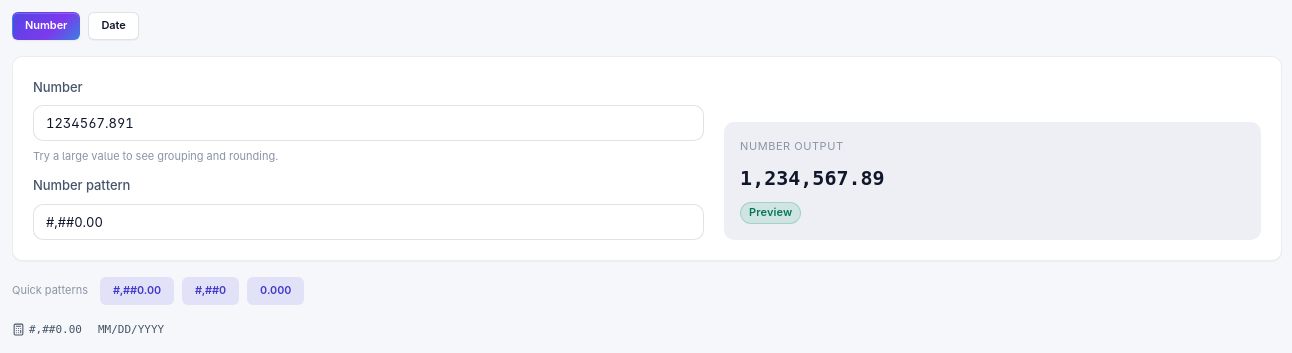
FormatPlayground › applies quick pattern presets
The image size is (1292, 353).
Click the button "#,##0" at (211, 291), box [182,277,239,305]
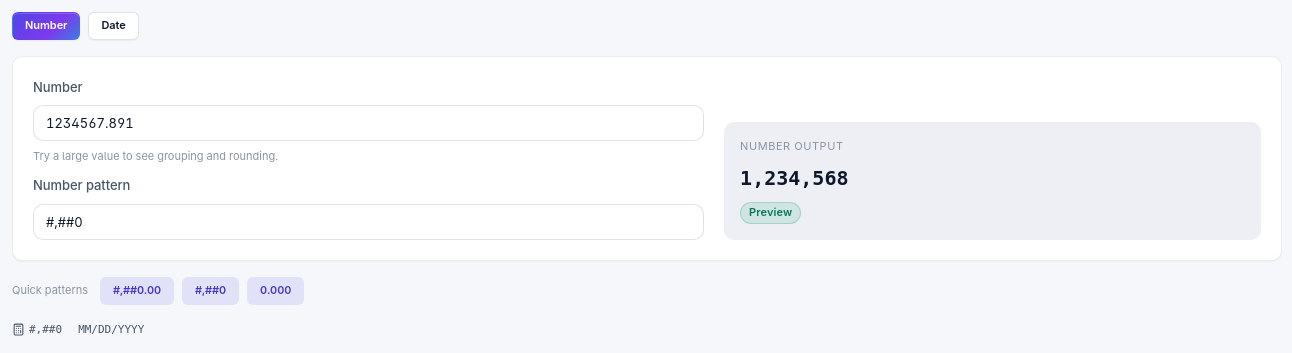
Check: the text with test id "format-output" reads "1,234,568", box [740,166,848,190]
